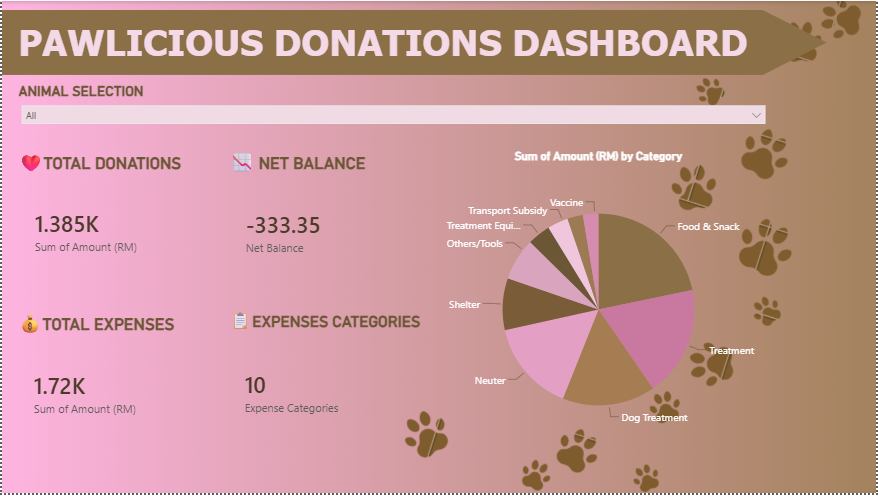

What the dashboard file says about the page in this screenshot:
{"tool":"powerbi","page":{"name":"Page 1","canvas":[1280,720],"ordinal":0},"visuals":[{"type":"image","box":[0,0,1280,720.6],"z":0},{"type":"shape","box":[0,13.2,1207.3,95.1],"z":1000},{"type":"textbox","title":"PAWLICIOUS DONATIONS DASHBOARD","box":[19,27.8,1106.3,67.3],"z":2000},{"type":"cardVisual","title":"❤️TOTAL DONATIONS","fields":{"Data":["Sum(Donations.Amount (RM))"]},"box":[19,216.6,297.1,213.7],"z":4000},{"type":"cardVisual","title":"📉 NET BALANCE","fields":{"Data":["Donations.Net Balance"]},"box":[327.8,216.6,297.1,215.1],"z":5000},{"type":"cardVisual","title":"💰TOTAL EXPENSES","fields":{"Data":["Sum(Expenses.Amount (RM))"]},"box":[17.6,452.2,298.5,215.1],"z":6000},{"type":"cardVisual","title":"📋EXPENSES CATEGORIES","fields":{"Data":["Donations.Expense Categories"]},"box":[326.3,450.7,298.5,216.6],"z":7000},{"type":"pieChart","fields":{"Y":["Sum(Expenses.Amount (RM))"],"Category":["Expenses.Category"]},"box":[639.5,216.6,466.8,450.7],"z":8000},{"type":"slicer","title":"ANIMAL SELECTION","fields":{"Values":["Expenses.Animal"]},"box":[19,120,1107.8,82],"z":9000}]}

Visuals, with their boxes in screenshot pixels (x1, y1, x2, y2), scaled from the page's 1280x720 canvas onto the 878x497 screenshot:
image: (x1=0, y1=0, x2=877, y2=496)
shape: (x1=0, y1=9, x2=828, y2=75)
"PAWLICIOUS DONATIONS DASHBOARD" textbox: (x1=13, y1=19, x2=772, y2=66)
"❤️TOTAL DONATIONS" cardVisual: (x1=13, y1=150, x2=217, y2=297)
"📉 NET BALANCE" cardVisual: (x1=225, y1=150, x2=429, y2=298)
"💰TOTAL EXPENSES" cardVisual: (x1=12, y1=312, x2=217, y2=461)
"📋EXPENSES CATEGORIES" cardVisual: (x1=224, y1=311, x2=429, y2=461)
pieChart - Sum(Expenses.Amount (RM)) x Expenses.Category: (x1=439, y1=150, x2=759, y2=461)
"ANIMAL SELECTION" slicer: (x1=13, y1=83, x2=773, y2=139)
